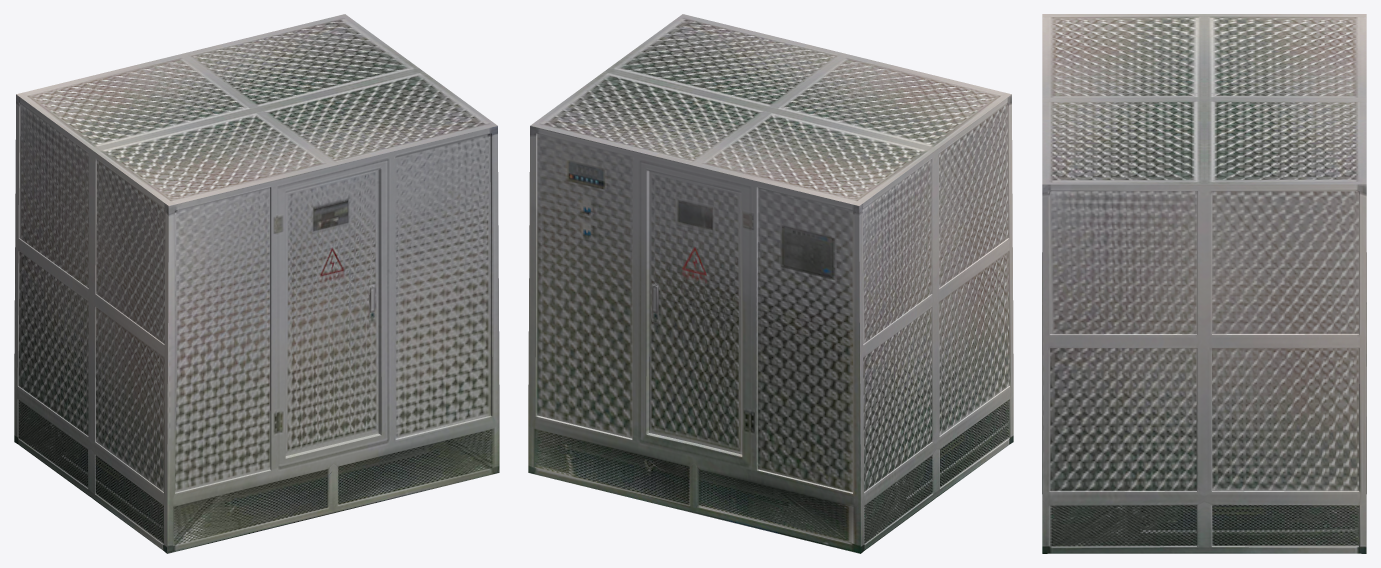
File: bianyaqi.FBX
3 views of the same model, side by side, from view 1: azimuth 30°, elevation 25°; view 2: azimuth 150°, elevation 25°; view 3: azimuth 270°, elevation 25° (orthographic). The views are drawn at different scales.
Parts seen in each view (by area): view 1: bianyaqi; view 2: bianyaqi; view 3: bianyaqi.
Part boxes in pixels (x1=…): bianyaqi: x1=14, y1=14, x2=499, y2=553; bianyaqi: x1=528, y1=14, x2=1013, y2=553; bianyaqi: x1=1042, y1=14, x2=1366, y2=553.
Size of the model in its own units: 1.7 by 1.7 by 1.36.
